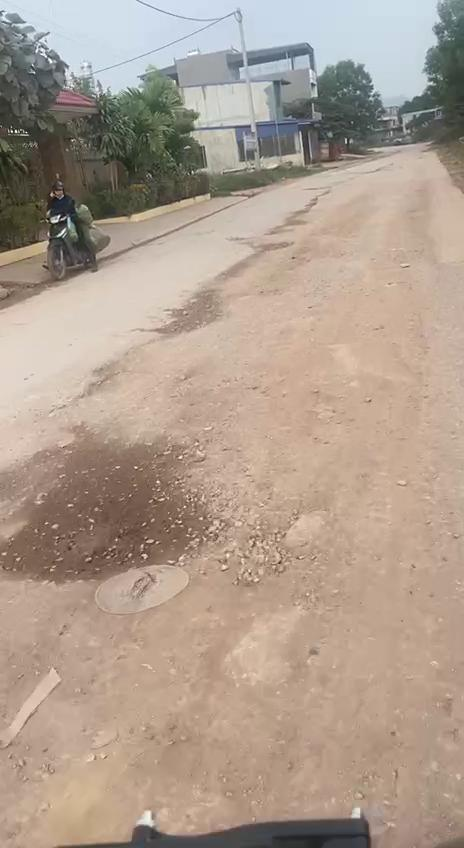pothole: (190, 318, 438, 588), (0, 422, 212, 589)
